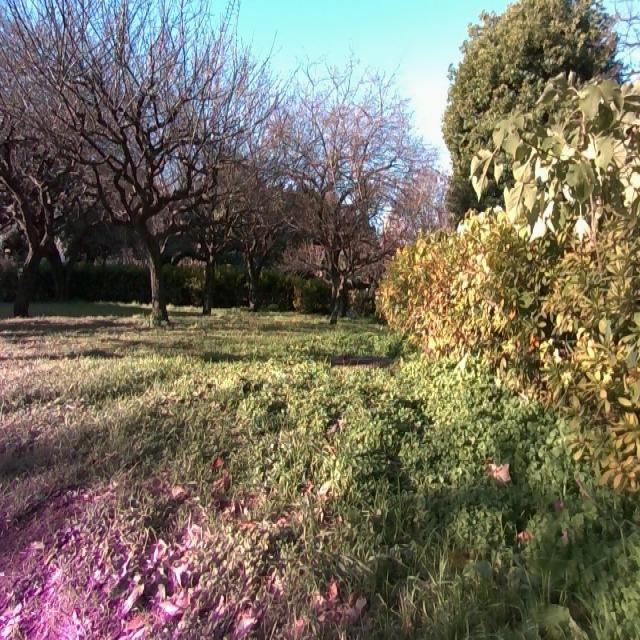bush: (378, 73, 637, 525), (1, 258, 374, 316)
tree: (70, 17, 212, 327), (0, 55, 78, 323), (288, 92, 368, 321), (213, 125, 289, 318)
